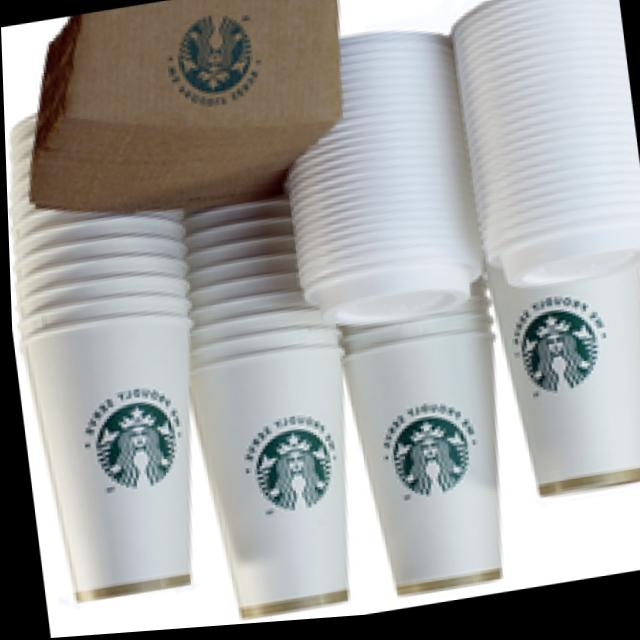paper_cups: (10, 260, 227, 605), (335, 309, 527, 611), (181, 340, 376, 629), (492, 268, 640, 509)
